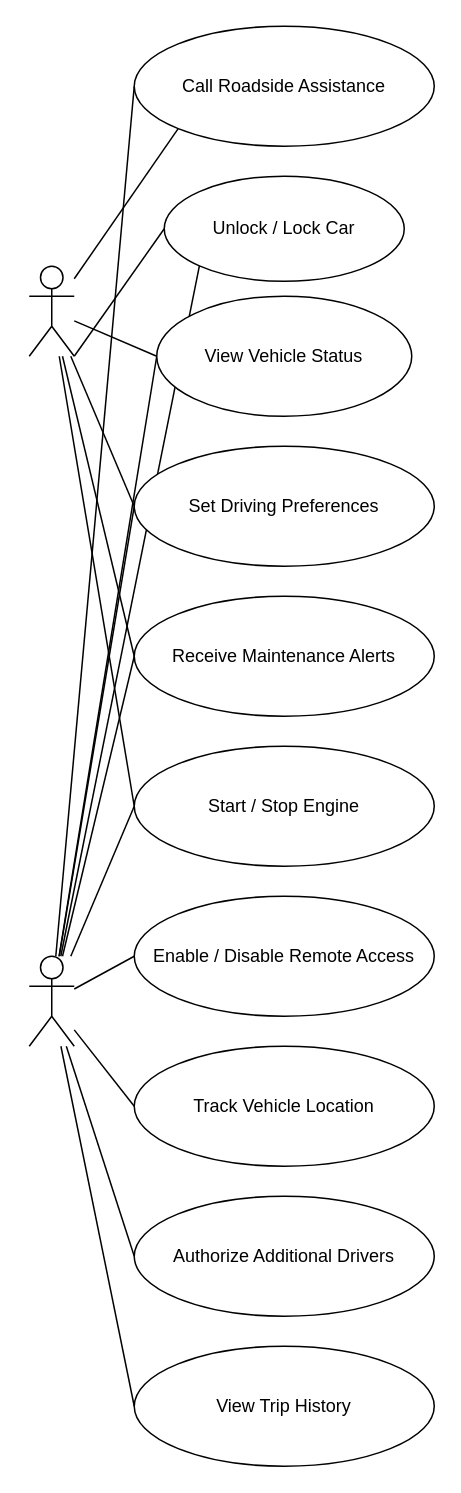
This 461x1493 diagram has some shape labels left out. The shapes that lost their labels are listed below. From the top down, each one's centre as x and y in pixels, then its label:
At (51,310): "Driver".
At (51,1000): "Owner".
